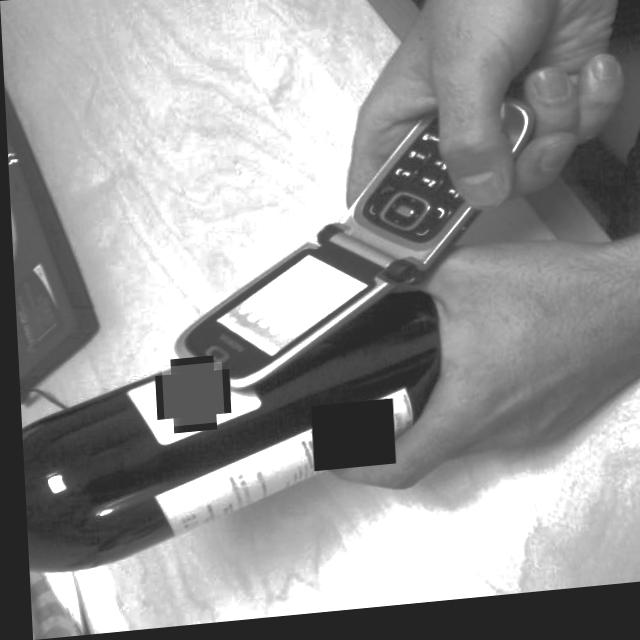qr_code: (307, 405, 390, 476), (157, 365, 220, 429)
